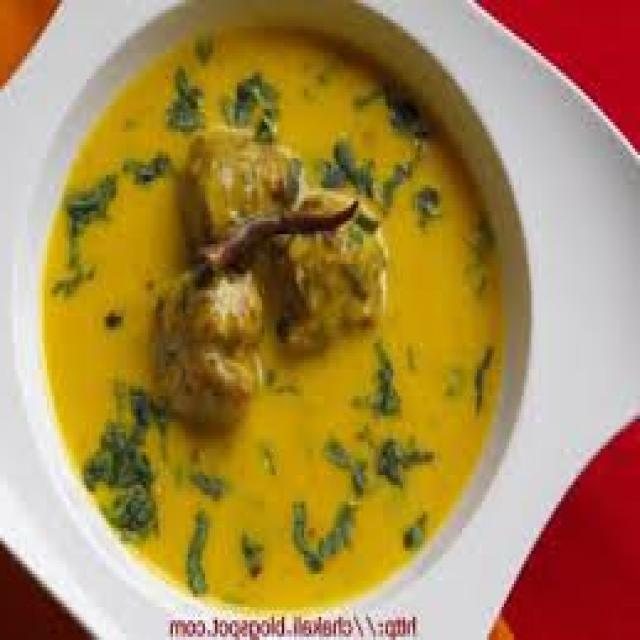Kadhi Pakora: (44, 19, 502, 608)
